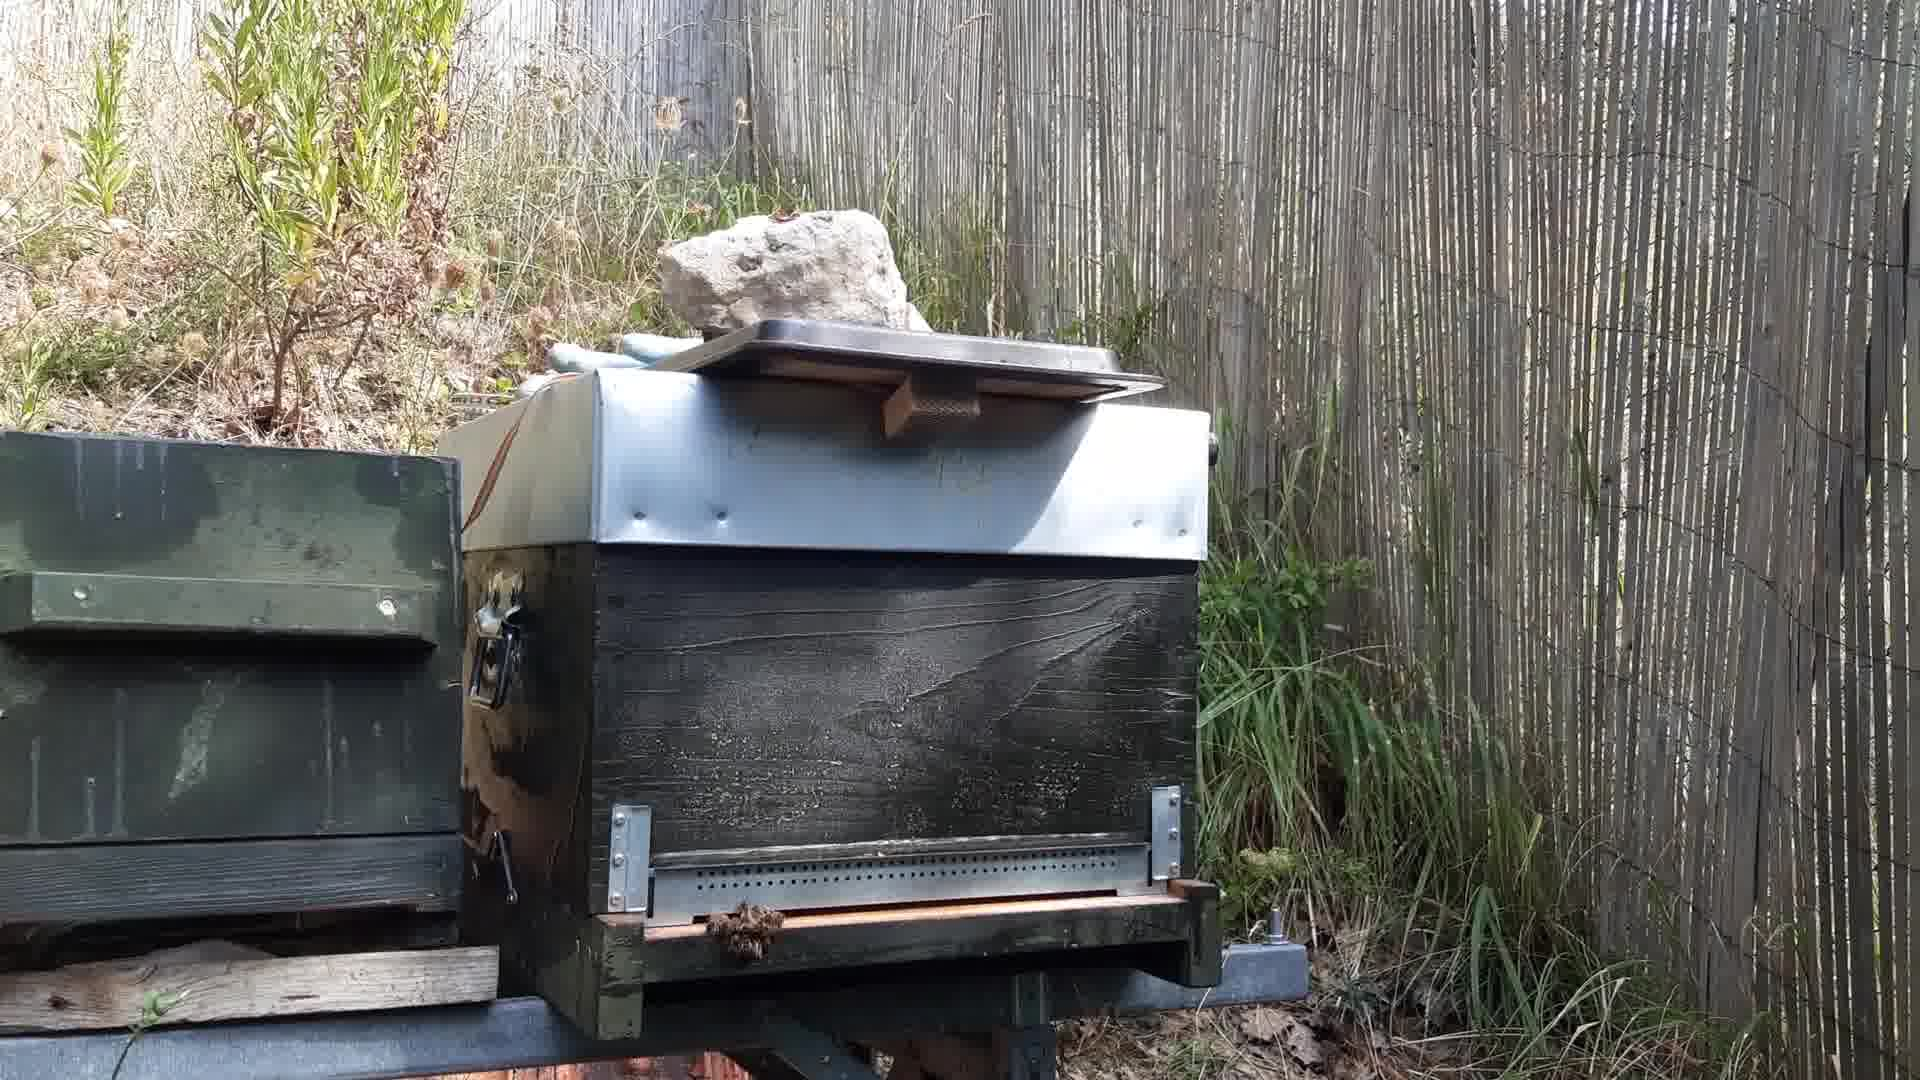bee: (707, 899, 789, 968)
